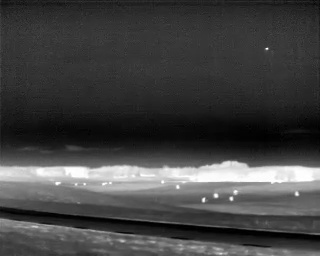BIRD: (263, 44, 271, 54)
